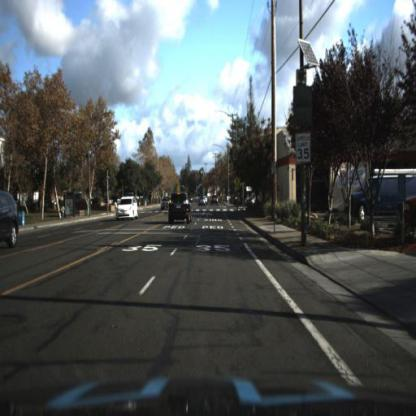car: (343, 159, 416, 227), (165, 184, 199, 231), (2, 187, 20, 251), (168, 192, 192, 226), (116, 193, 138, 226), (211, 194, 222, 210), (195, 193, 205, 206)
pedestrian: (59, 201, 67, 227)
truck: (350, 167, 416, 224)
